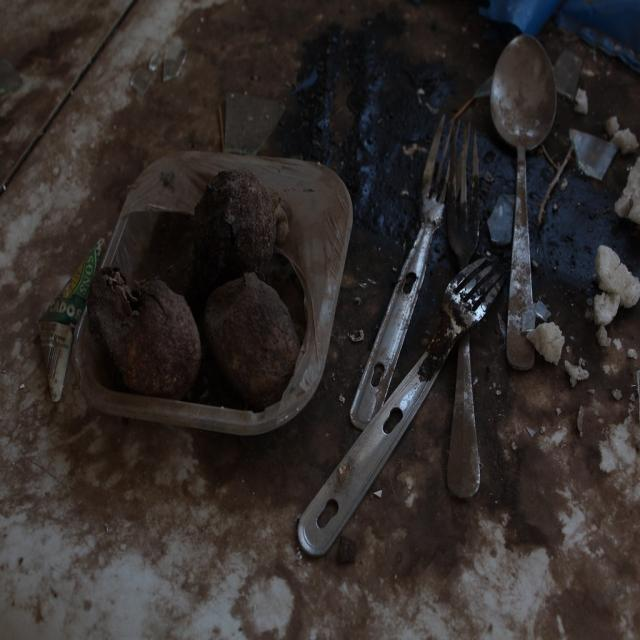Metal: (339, 13, 573, 580)
